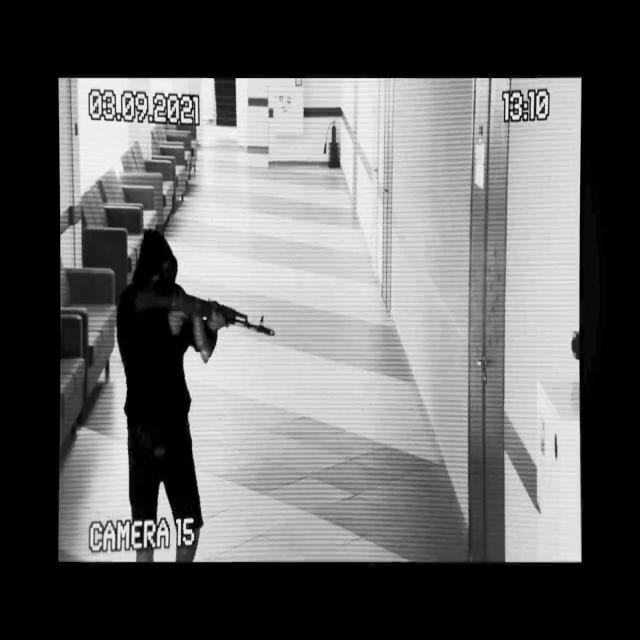gun: (144, 286, 276, 364)
person with a gun: (117, 228, 276, 560)
